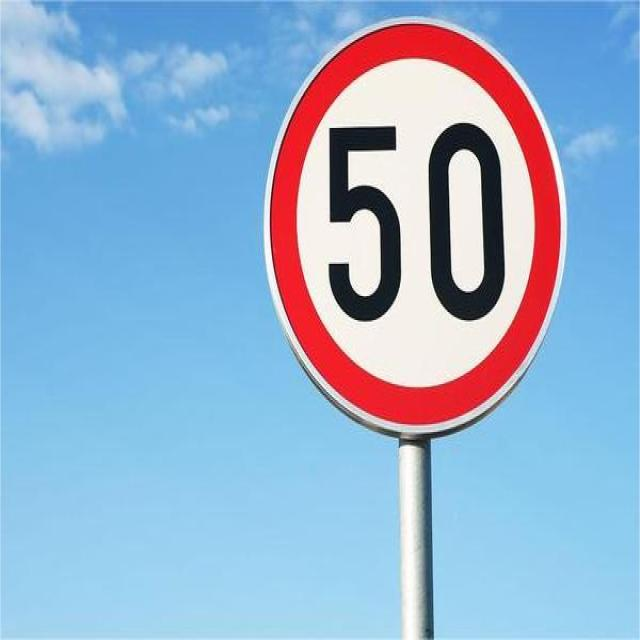speed limit 50: (263, 17, 569, 434)
